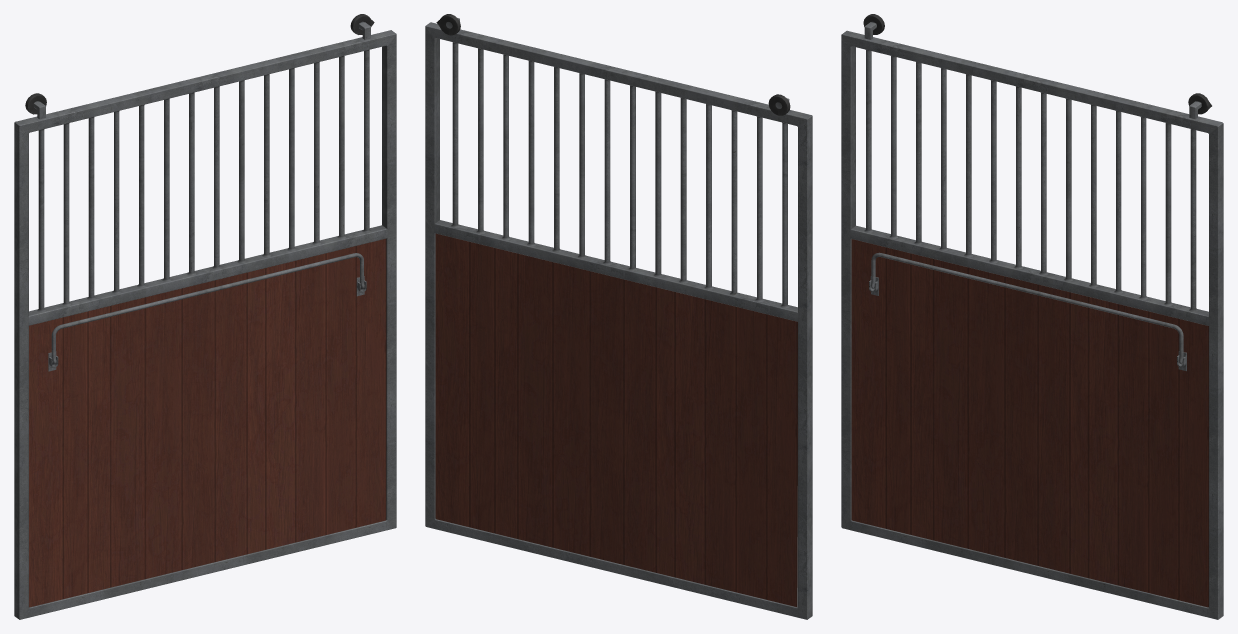
The model's file is Pen_01_Straight_Door.fbx.
3 renders of one model, left to right at view 1: azimuth 30°, elevation 25°; view 2: azimuth 150°, elevation 25°; view 3: azimuth 330°, elevation 25°, orthographic.
Parts seen in each view (by area): view 1: Pen_01_Straight_Door; view 2: Pen_01_Straight_Door; view 3: Pen_01_Straight_Door.
Part boxes in pixels (left/top/right/bottom): Pen_01_Straight_Door: left=14, top=14, right=396, bottom=619; Pen_01_Straight_Door: left=425, top=14, right=812, bottom=619; Pen_01_Straight_Door: left=841, top=14, right=1223, bottom=619.
Size of the model in its own units: 200 by 260 by 10.96.
